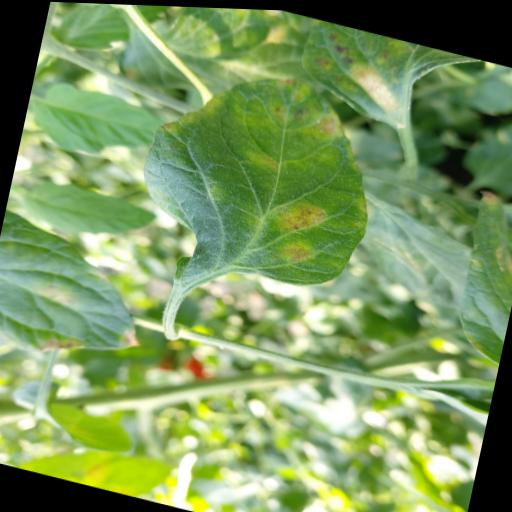Leaf Mold: (126, 45, 392, 299), (0, 209, 161, 384)
